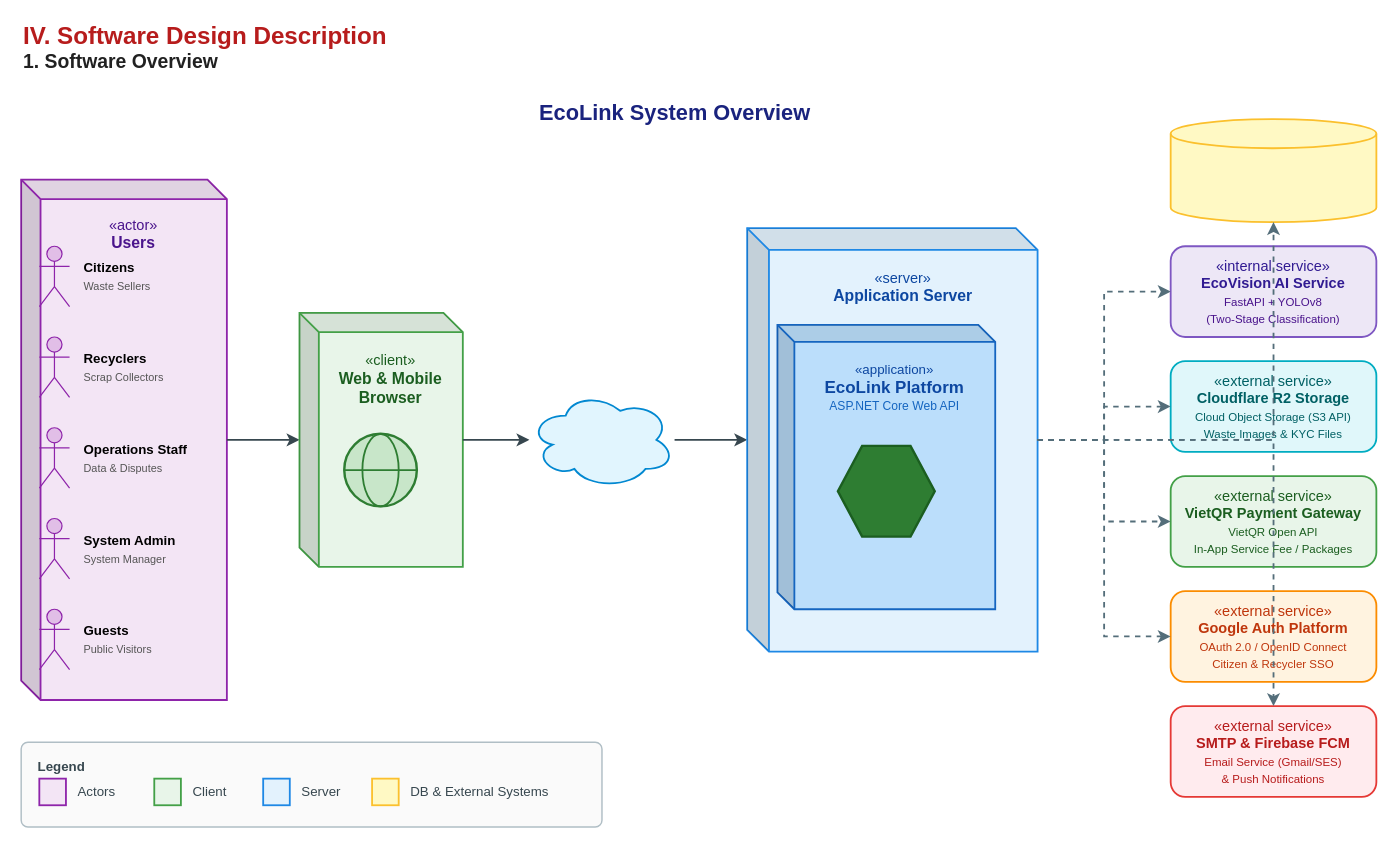
This 1399x849 diagram has some shape labels left out. Each missing label, with the centre of its shape:
"Internet" belongs at (601,439).
"«database» Database & Cache PostgreSQL 16 (PostGIS) & Redis 7 In-Memory" belongs at (1273,170).
"♻ EcoLink" belongs at (885,490).
